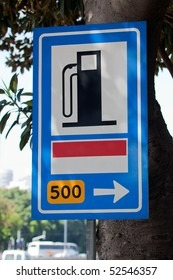fuel-station: (50, 47, 128, 133)
right turn: (92, 180, 131, 204)
